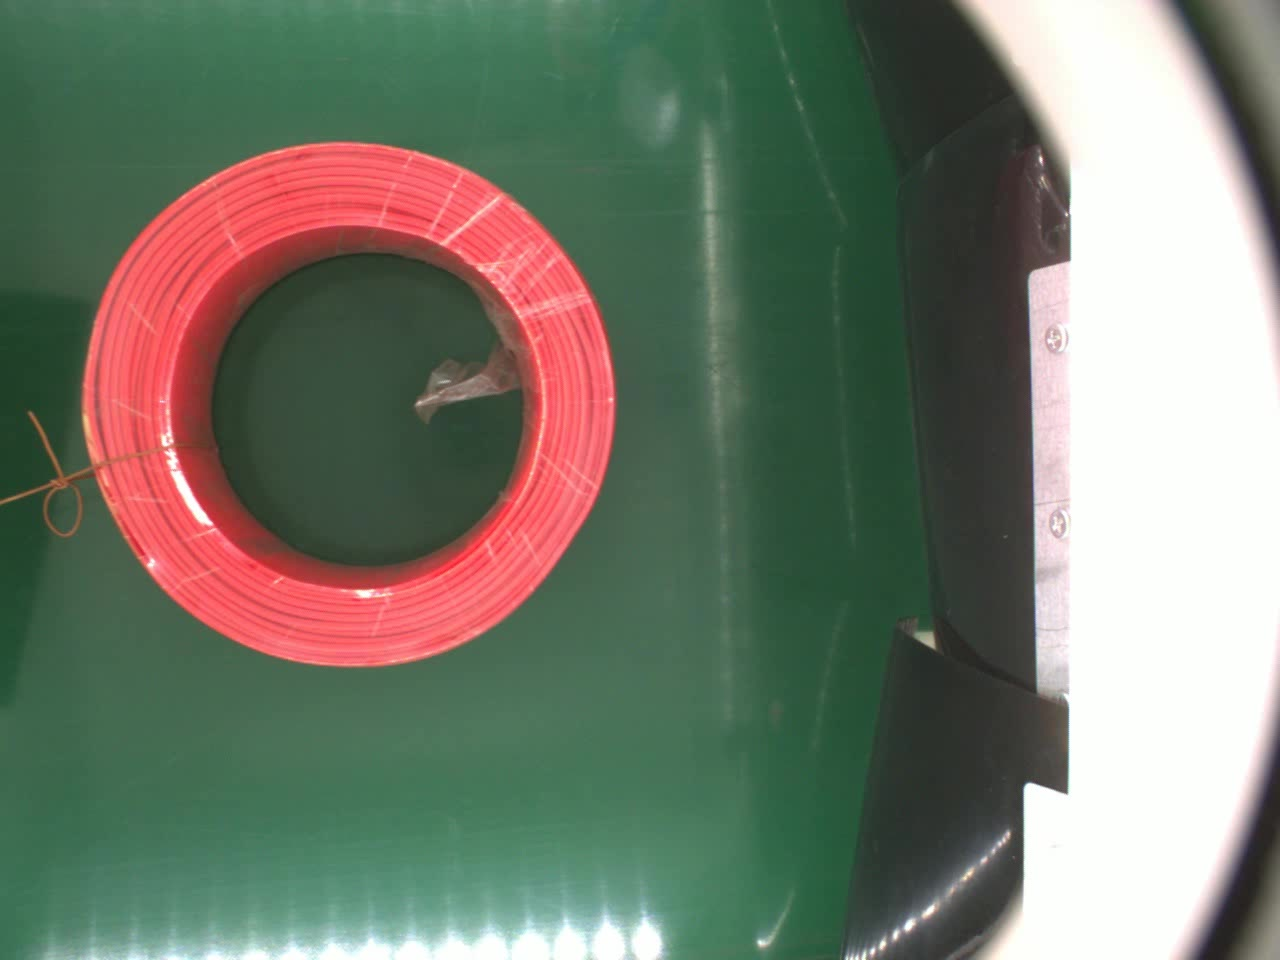red: (79, 138, 621, 673)
